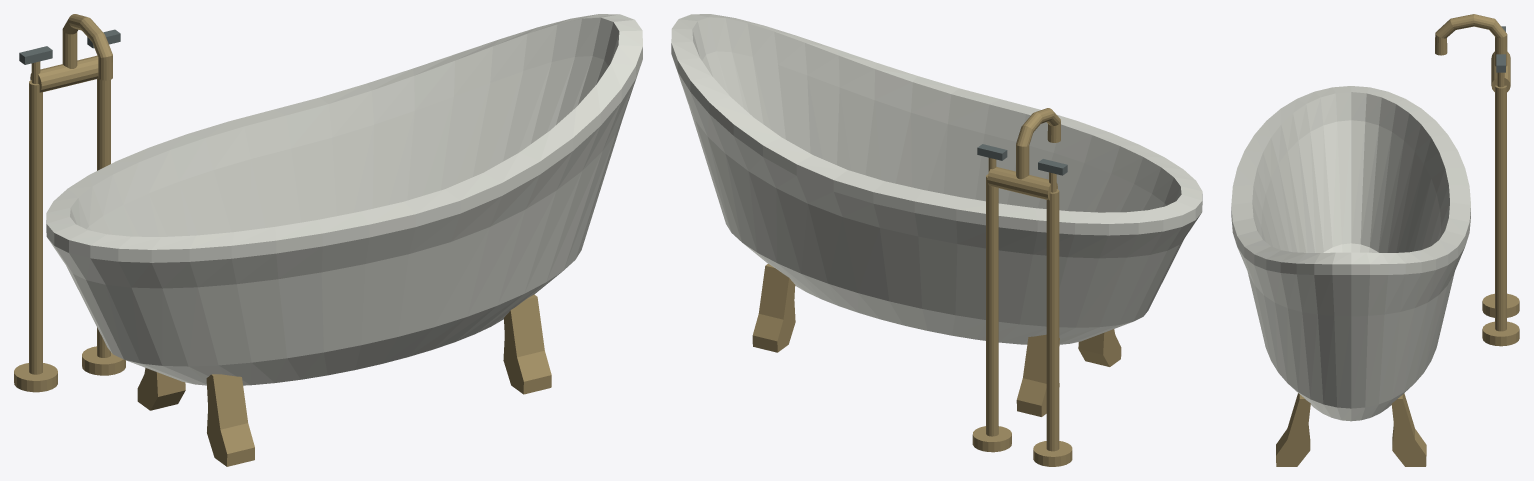
The picture shows the model from 3 angles, left to right: view 1: azimuth 30°, elevation 25°; view 2: azimuth 150°, elevation 25°; view 3: azimuth 270°, elevation 25°; orthographic projection. The views are drawn at different scales.
Parts seen in each view (by area): view 1: WholeHighBackRolledLipDeepVessel, WholeUprightTapSupply_-0.71, WholeCurvedSplayedFoot_(-0.48, -1), WholeCurvedSplayedFoot_(0.48, -1), WholeBridgeGooseneckSpout, WholeUprightTapSupply_-0.49, WholeCurvedSplayedFoot_(-0.48, 1), WholeTapBridge, WholeTapFloorEscutcheon_-0.71, WholeTapFloorEscutcheon_-0.49; view 2: WholeHighBackRolledLipDeepVessel, WholeUprightTapSupply_-0.71, WholeUprightTapSupply_-0.49, WholeCurvedSplayedFoot_(0.48, 1), WholeCurvedSplayedFoot_(-0.48, 1), WholeBridgeGooseneckSpout, WholeTapBridge, WholeCurvedSplayedFoot_(-0.48, -1), WholeTapFloorEscutcheon_-0.49, WholeTapFloorEscutcheon_-0.71; view 3: WholeHighBackRolledLipDeepVessel, WholeUprightTapSupply_-0.49, WholeCurvedSplayedFoot_(0.48, 1), WholeCurvedSplayedFoot_(0.48, -1), WholeBridgeGooseneckSpout, WholeTapFloorEscutcheon_-0.49, WholeTapFloorEscutcheon_-0.71, WholeTapBridge.
Boxes of the visible parts, bbox=[...] form: WholeHighBackRolledLipDeepVessel: bbox=[46, 14, 642, 385]; WholeUprightTapSupply_-0.71: bbox=[29, 80, 42, 374]; WholeCurvedSplayedFoot_(-0.48, -1): bbox=[206, 374, 254, 466]; WholeCurvedSplayedFoot_(0.48, -1): bbox=[503, 294, 551, 394]; WholeBridgeGooseneckSpout: bbox=[62, 14, 112, 80]; WholeUprightTapSupply_-0.49: bbox=[97, 78, 110, 357]; WholeCurvedSplayedFoot_(-0.48, 1): bbox=[137, 368, 185, 410]; WholeTapBridge: bbox=[30, 55, 98, 92]; WholeTapFloorEscutcheon_-0.71: bbox=[14, 363, 57, 392]; WholeTapFloorEscutcheon_-0.49: bbox=[82, 346, 125, 375]; WholeHighBackRolledLipDeepVessel: bbox=[671, 14, 1202, 344]; WholeUprightTapSupply_-0.71: bbox=[1046, 189, 1059, 451]; WholeUprightTapSupply_-0.49: bbox=[986, 174, 998, 436]; WholeCurvedSplayedFoot_(0.48, 1): bbox=[752, 264, 795, 352]; WholeCurvedSplayedFoot_(-0.48, 1): bbox=[1016, 334, 1059, 416]; WholeBridgeGooseneckSpout: bbox=[1016, 108, 1060, 179]; WholeTapBridge: bbox=[987, 167, 1057, 200]; WholeCurvedSplayedFoot_(-0.48, -1): bbox=[1078, 329, 1121, 366]; WholeTapFloorEscutcheon_-0.49: bbox=[972, 426, 1011, 452]; WholeTapFloorEscutcheon_-0.71: bbox=[1033, 441, 1072, 466]; WholeHighBackRolledLipDeepVessel: bbox=[1231, 86, 1470, 421]; WholeUprightTapSupply_-0.49: bbox=[1495, 85, 1506, 331]; WholeCurvedSplayedFoot_(0.48, 1): bbox=[1391, 393, 1426, 466]; WholeCurvedSplayedFoot_(0.48, -1): bbox=[1276, 393, 1310, 466]; WholeBridgeGooseneckSpout: bbox=[1435, 14, 1507, 66]; WholeTapFloorEscutcheon_-0.49: bbox=[1482, 321, 1519, 346]; WholeTapFloorEscutcheon_-0.71: bbox=[1482, 293, 1519, 317]; WholeTapBridge: bbox=[1491, 51, 1510, 92].
Size of the model in its own units: 1.88 by 1.14 by 0.962.
